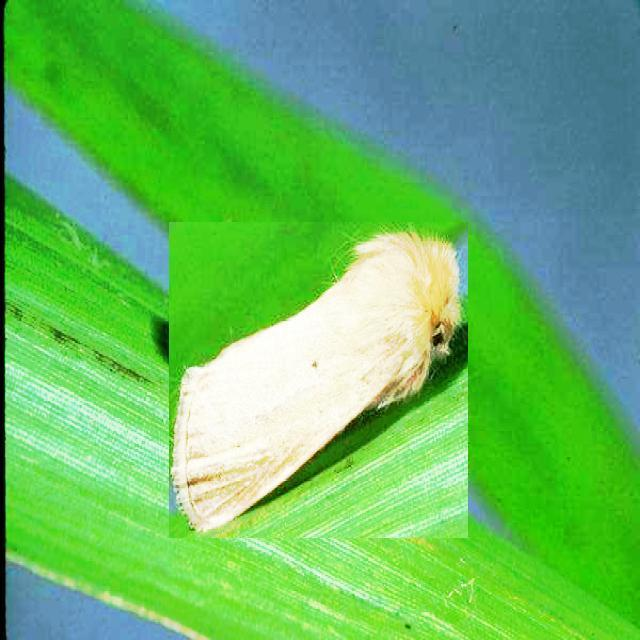stem-borer: (169, 222, 468, 538)
